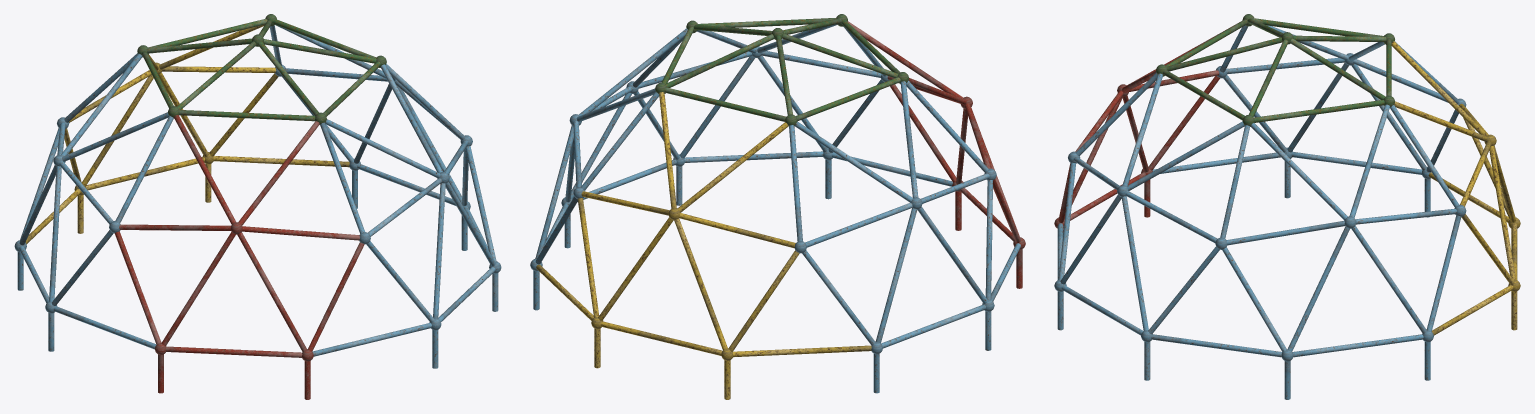
Rendered from playground_dome_climber_web.glb.
The picture shows the model from 3 angles, left to right: view 1: azimuth 30°, elevation 25°; view 2: azimuth 150°, elevation 25°; view 3: azimuth 270°, elevation 25°; orthographic projection.
Parts seen in each view (by area): view 1: DomeClimber_Mesh; view 2: DomeClimber_Mesh; view 3: DomeClimber_Mesh.
Part boxes in pixels (left/top/right/bottom): DomeClimber_Mesh: left=14, top=14, right=501, bottom=399; DomeClimber_Mesh: left=530, top=14, right=1025, bottom=399; DomeClimber_Mesh: left=1054, top=14, right=1520, bottom=399.
Size of the model in its own units: 4.31 by 2.58 by 4.1.
Materials: 4 (4 with a texture image).
